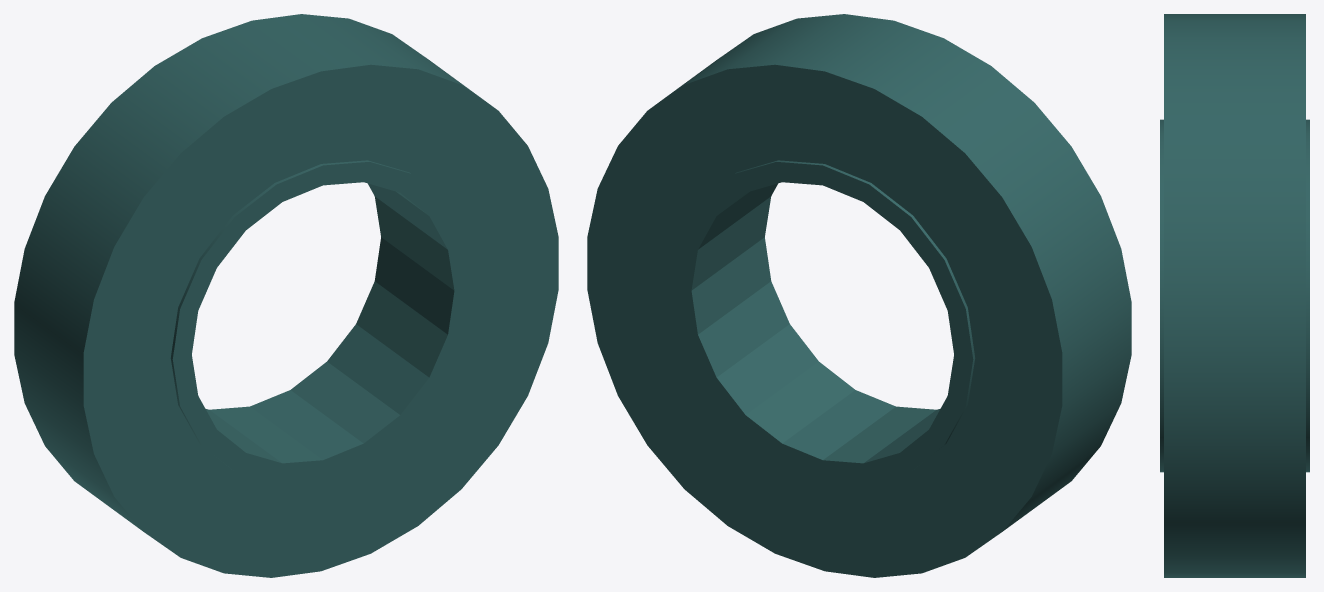
Rendered from L_tape low.fbx.
The picture shows the model from 3 angles, left to right: view 1: azimuth 30°, elevation 25°; view 2: azimuth 150°, elevation 25°; view 3: azimuth 270°, elevation 25°; orthographic projection. The views are drawn at different scales.
Visible parts, largest first — view 1: Ltape_01_low, Ltape_02_low; view 2: Ltape_01_low, Ltape_02_low; view 3: Ltape_01_low, Ltape_02_low.
Boxes of the visible parts, left/top/right/bottom form: Ltape_01_low: left=14, top=14, right=558, bottom=577; Ltape_02_low: left=170, top=160, right=473, bottom=483; Ltape_01_low: left=587, top=14, right=1131, bottom=577; Ltape_02_low: left=672, top=160, right=975, bottom=483; Ltape_01_low: left=1164, top=14, right=1305, bottom=577; Ltape_02_low: left=1160, top=119, right=1309, bottom=472.
Bounding box in the file's own units: 20.14 × 20.25 × 5.38.
